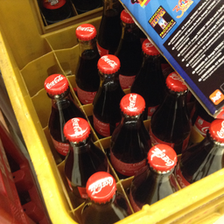soda: (110, 92, 152, 175), (63, 119, 107, 197), (44, 73, 84, 153), (155, 73, 191, 152), (93, 55, 127, 135), (74, 21, 100, 102)
